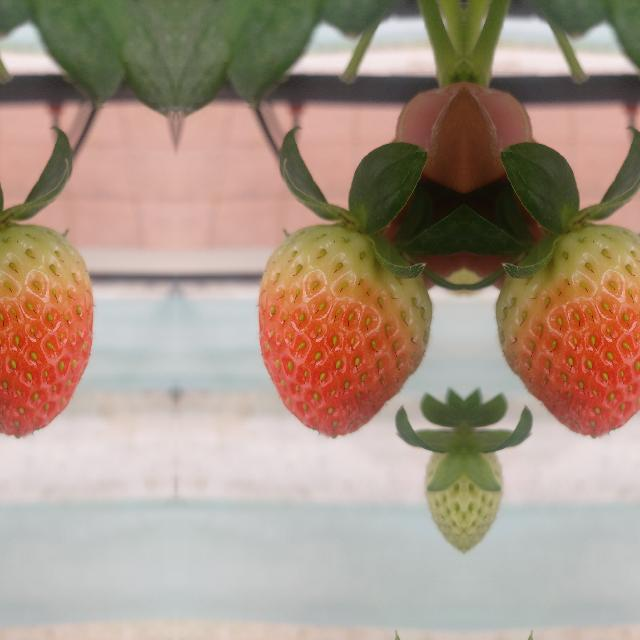Health_75: (258, 224, 430, 436), (495, 224, 640, 436), (0, 224, 92, 436)
